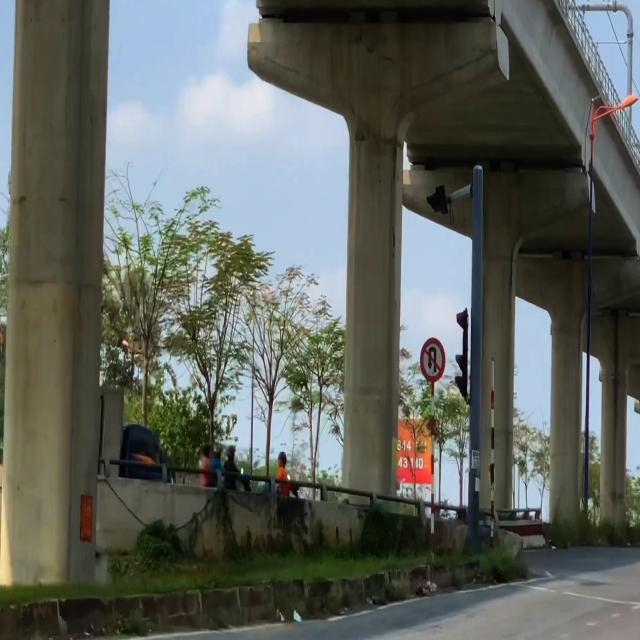Cam quay dau xe: (420, 336, 446, 384)
